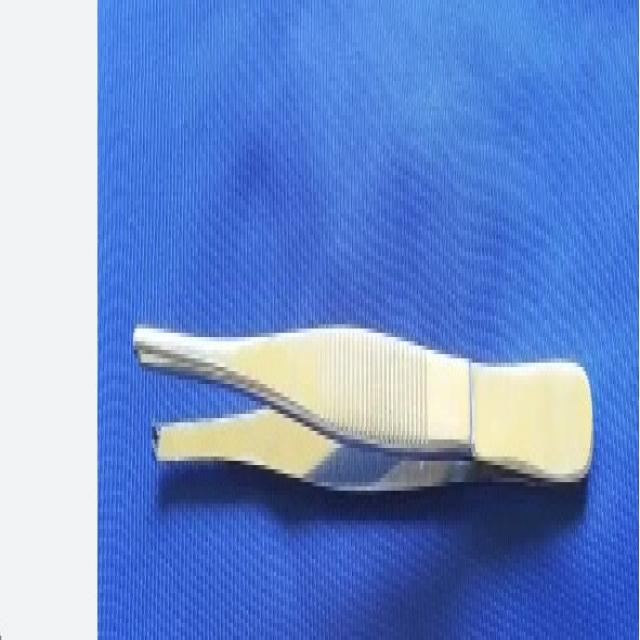Disscting Forceps -tooth-: (130, 270, 598, 516)
